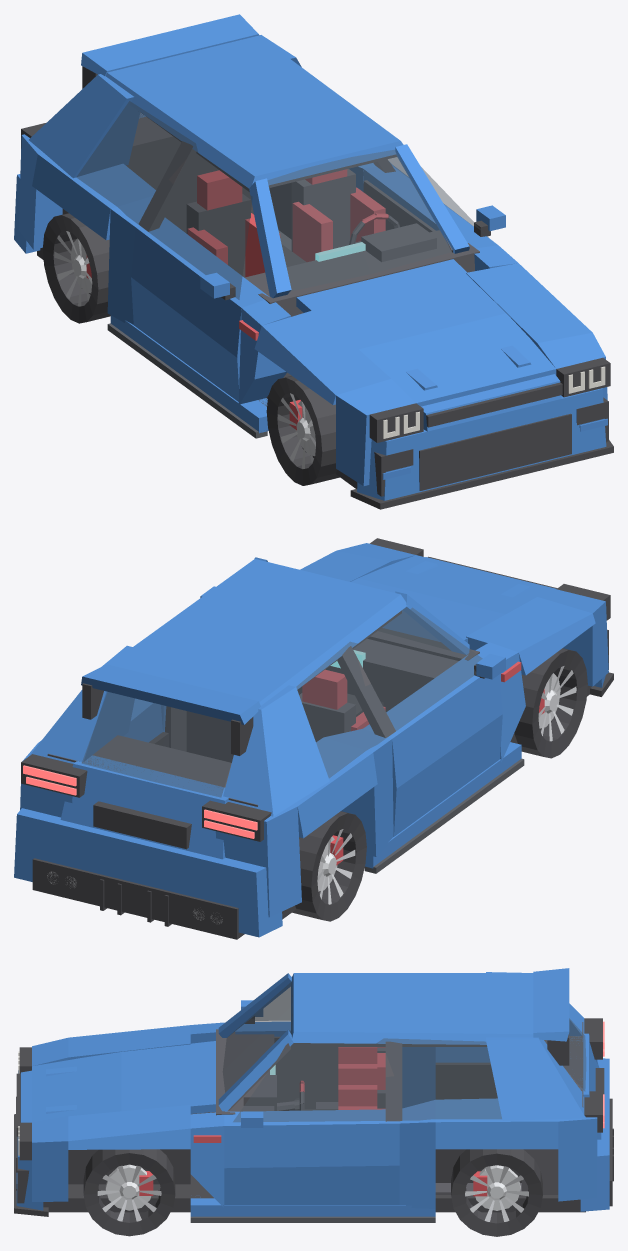
Rendered from HotHatch_01.fbx.
3 views of the same model, one above another, from view 1: azimuth 30°, elevation 25°; view 2: azimuth 150°, elevation 25°; view 3: azimuth 270°, elevation 25° (orthographic). The views are drawn at different scales.
Parts seen in each view (by area): view 1: roof_cabin, mod_hood_0_stock, mod_bumper_front_0_stock, glass_windshield, glass_side_right, fender_front_right, door_right, fender_rear_right, interior_cabin, fender_front_left, interior_seat_driver, mod_interior_passenger_0_seat (+11 smaller); view 2: roof_cabin, mod_bumper_rear_0_stock, glass_side_right, door_right, fender_rear_right, glass_rear, engine_decklid, fender_front_right, mod_hood_0_stock, mod_spoiler_0_stock, wheel-front-right, interior_cabin (+15 smaller); view 3: roof_cabin, glass_side_left, door_left, fender_rear_left, fender_front_left, mod_hood_0_stock, wheel-front-left, wheel-back-left, fender_rear_right, mod_skirts_0_stock_left, door_right, fender_front_right (+17 smaller).
Part boxes in pixels (x1,y1,x2,y2): roof_cabin: (29, 35, 469, 298); mod_hood_0_stock: (296, 259, 556, 406); mod_bumper_front_0_stock: (350, 374, 613, 509); glass_windshield: (268, 150, 451, 290); glass_side_right: (76, 101, 252, 299); fender_front_right: (238, 300, 415, 486); door_right: (131, 217, 269, 401); fender_rear_right: (18, 134, 155, 324); interior_cabin: (62, 112, 479, 398); fender_front_left: (466, 245, 607, 400); interior_seat_driver: (291, 169, 385, 261); mod_interior_passenger_0_seat: (186, 170, 280, 277); roof_cabin: (29, 557, 469, 816); mod_bumper_rear_0_stock: (14, 808, 282, 939); glass_side_right: (296, 607, 482, 777); door_right: (363, 655, 502, 836); fender_rear_right: (215, 729, 393, 917); glass_rear: (82, 692, 233, 797); engine_decklid: (60, 755, 228, 859); fender_front_right: (466, 589, 608, 761); mod_hood_0_stock: (350, 555, 555, 642); mod_spoiler_0_stock: (81, 664, 260, 755); wheel-front-right: (514, 648, 587, 758); interior_cabin: (47, 628, 479, 806); roof_cabin: (218, 972, 585, 1121); glass_side_left: (233, 1038, 501, 1121); door_left: (224, 1109, 399, 1204); fender_rear_left: (399, 1098, 597, 1208); fender_front_left: (32, 1105, 224, 1207); mod_hood_0_stock: (32, 1041, 215, 1122); wheel-front-left: (83, 1149, 175, 1236); wheel-back-left: (451, 1149, 542, 1236); fender_rear_right: (402, 1047, 597, 1107); mod_skirts_0_stock_left: (190, 1197, 435, 1222); door_right: (224, 1021, 338, 1108); fender_front_right: (32, 1022, 224, 1066).
Bounding box in the file's own units: 2 × 1.45 × 4.31.
